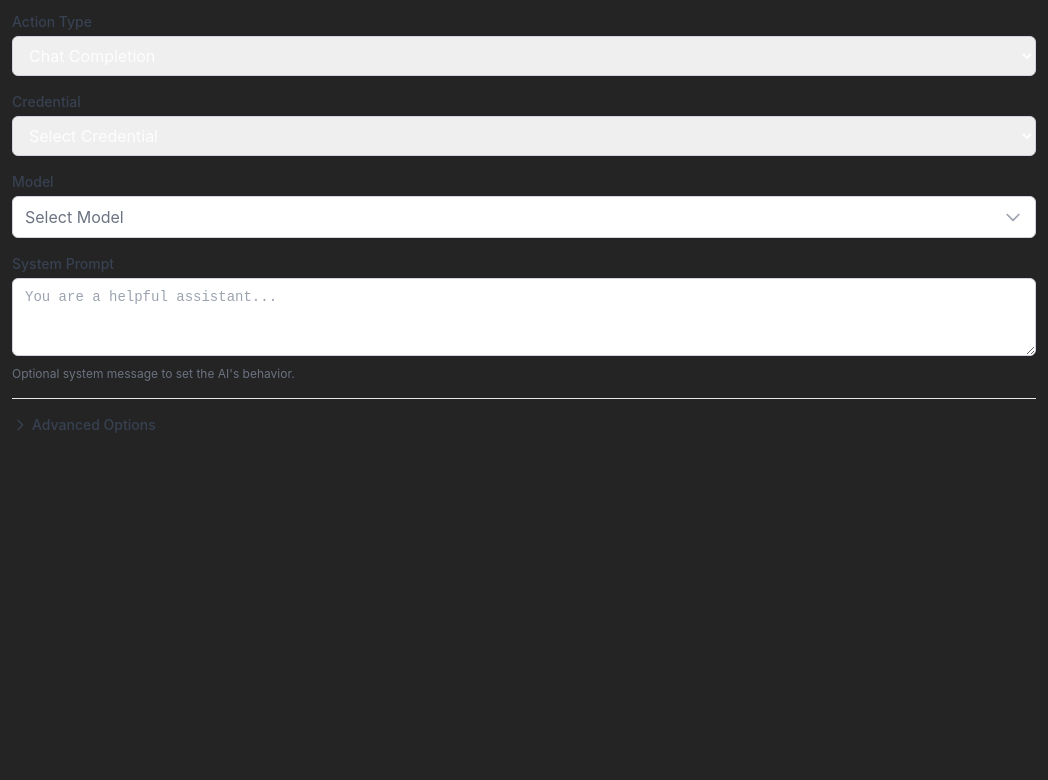
Test: AIConfigPanel › should show advanced options when expanded
The width and height of the screenshot is (1048, 780).
Click the button "Advanced Options": (84, 425) [12,415,156,435]
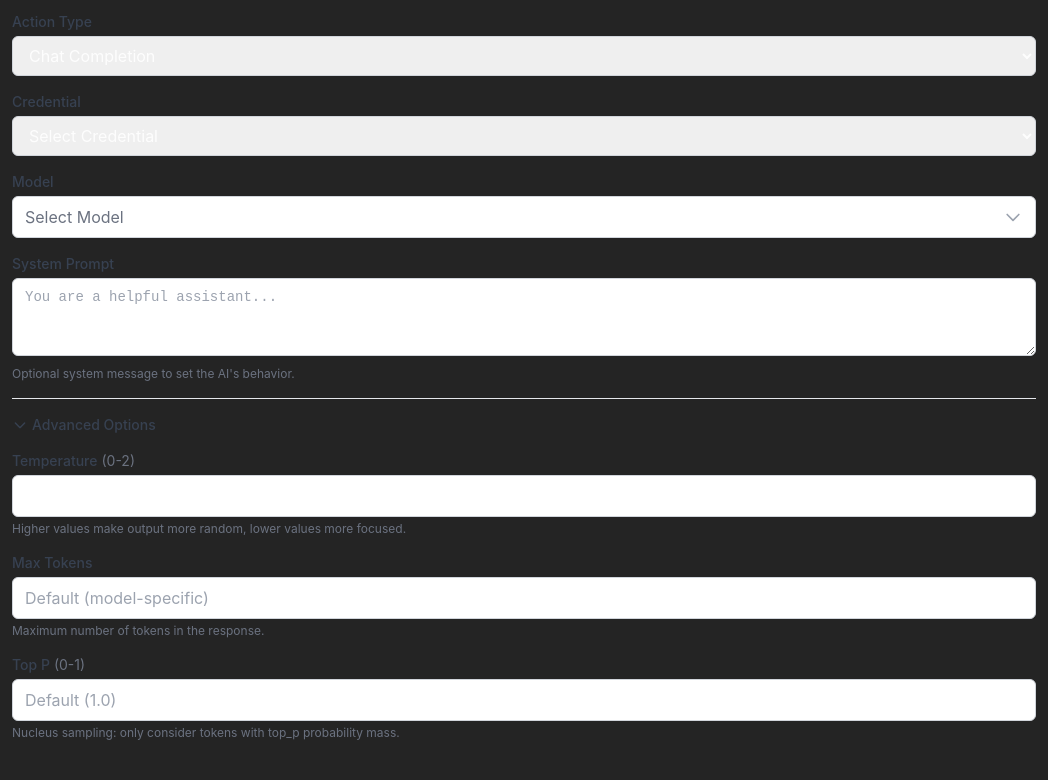
Check: the text "Temperature" is shown, box [12,452,98,469]
Check: the text "Max Tokens" is shown, box [12,554,92,571]
